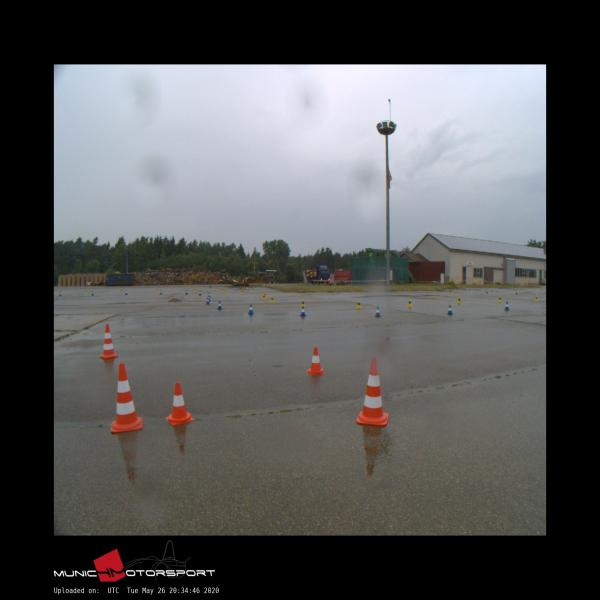blue_cone: (248, 304, 254, 314), (300, 306, 306, 315), (447, 305, 453, 314), (375, 306, 380, 316), (504, 301, 509, 310), (217, 301, 222, 309), (206, 297, 210, 305)
large_orange_cone: (356, 358, 388, 425), (110, 364, 142, 430), (99, 324, 117, 358)
orange_cone: (166, 383, 193, 424), (307, 347, 324, 374)
yellow_cone: (300, 299, 306, 307), (356, 300, 361, 308), (408, 299, 412, 307), (457, 296, 461, 304), (498, 295, 502, 302), (270, 296, 274, 302), (534, 295, 538, 301)
